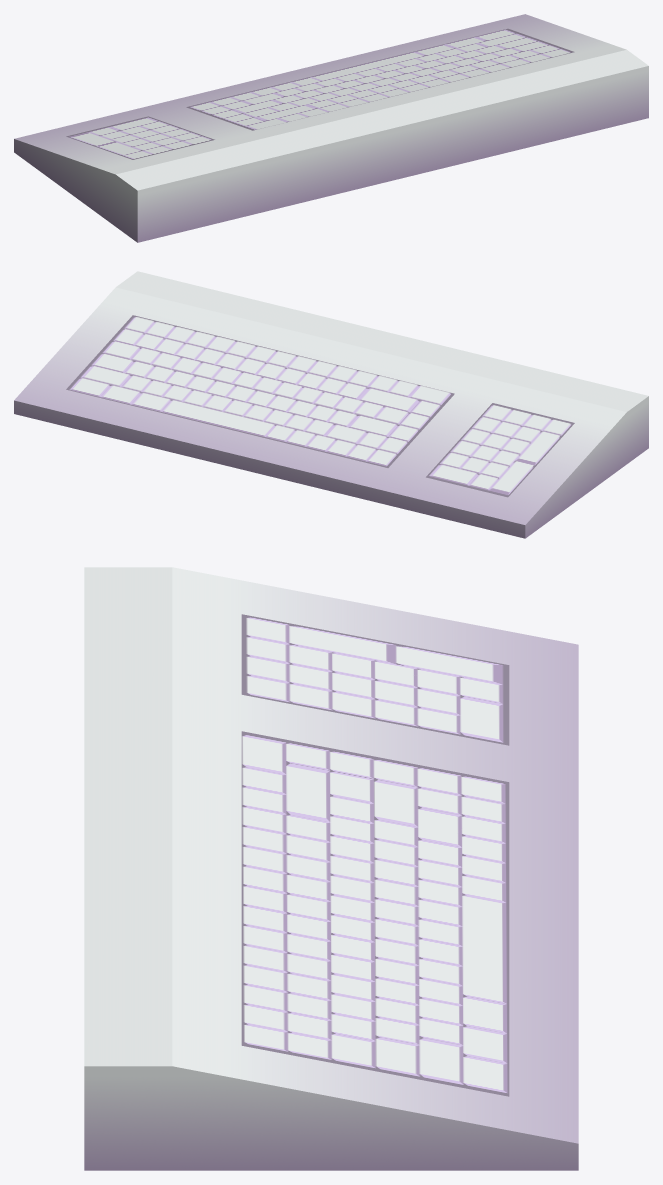
The model's file is computerKeyboard.fbx.
The picture shows the model from 3 angles, top to bottom: view 1: azimuth 30°, elevation 25°; view 2: azimuth 150°, elevation 25°; view 3: azimuth 270°, elevation 25°; orthographic projection. The views are drawn at different scales.
Parts seen in each view (by area): view 1: computerKeyboard1; view 2: computerKeyboard1; view 3: computerKeyboard1.
Part boxes in pixels (x1,y1,x2,y2): computerKeyboard1: (14,14,648,242); computerKeyboard1: (14,271,648,538); computerKeyboard1: (84,567,578,1170).
Size of the model in its own units: 65.57 by 6.4 by 27.46.
